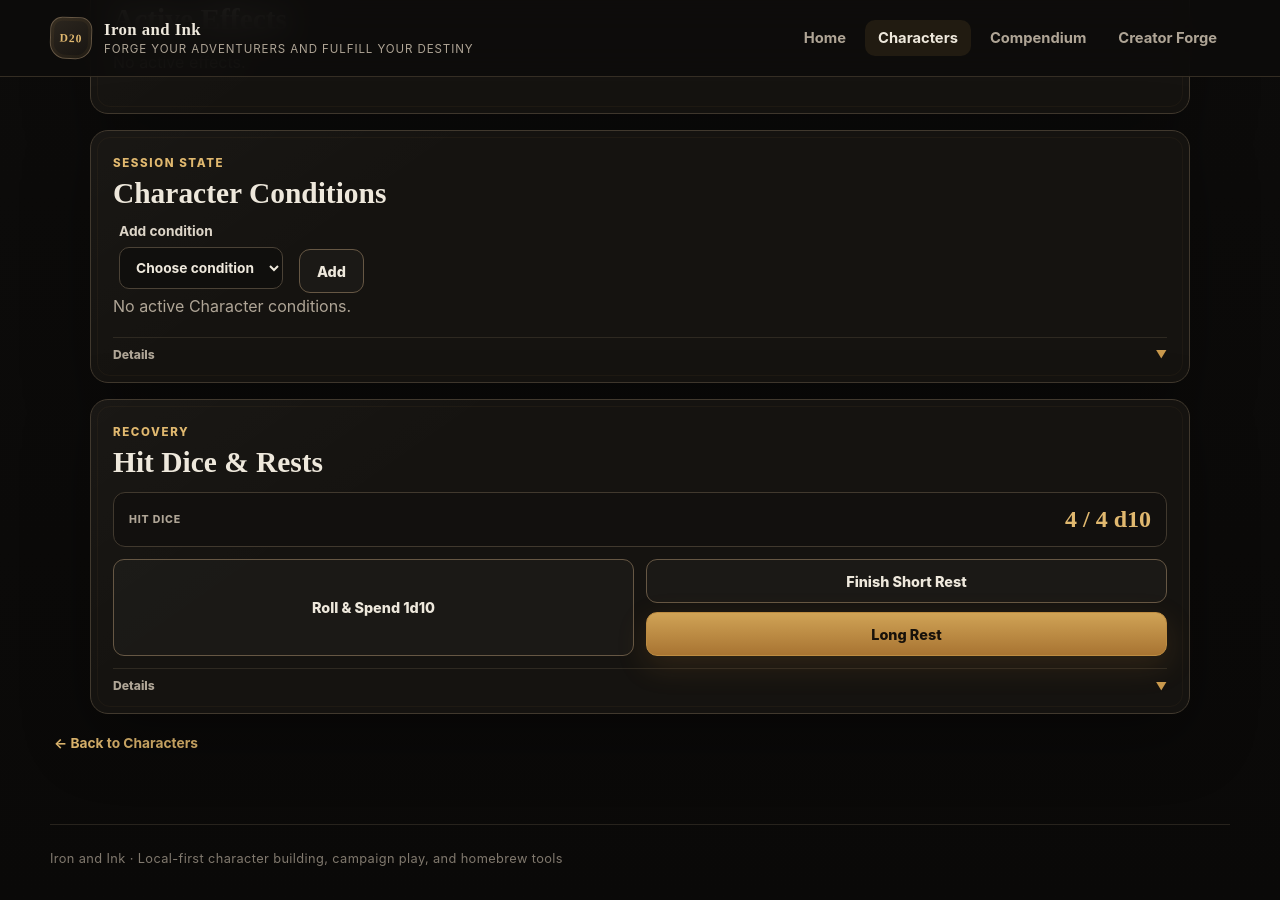
Test: PLAY lower-content density and disclosure › L-M keeps Hit Dice/rest actions immediate while recovery explanation defaults collapsed and remains accessible
(page scrolled)
expect the element "Hit Dice & Rests" is shown: met, box [90,399,1190,714]
expect the text "4 / 4 d10" is shown: met, box [1065,506,1151,533]
Click the heading "Details" below "4 / 4 d10" at (134,686), box [113,678,155,693]
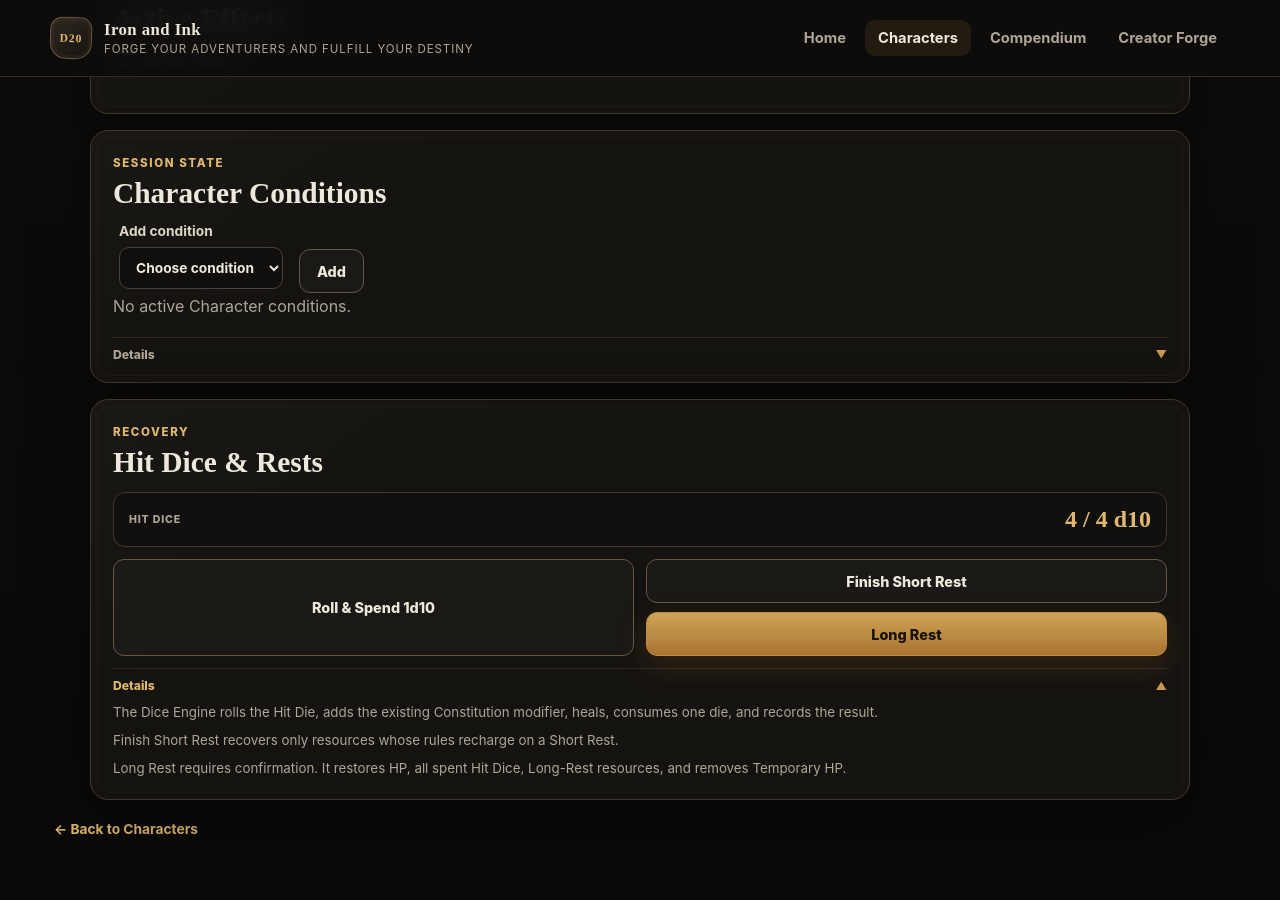
expect the text "The Dice Engine rolls the Hit Die, adds the existing Constitution modifier, heals, consumes one die, and records the res" is shown: met, box [113,704,878,720]
expect the text "Finish Short Rest recovers only resources whose rules recharge on a Short Rest." is shown: met, box [113,732,618,748]
expect the text "Long Rest requires confirmation. It restores HP, all spent Hit Dice, Long-Rest resources, and removes Temporary HP." is shown: met, box [113,760,846,776]
